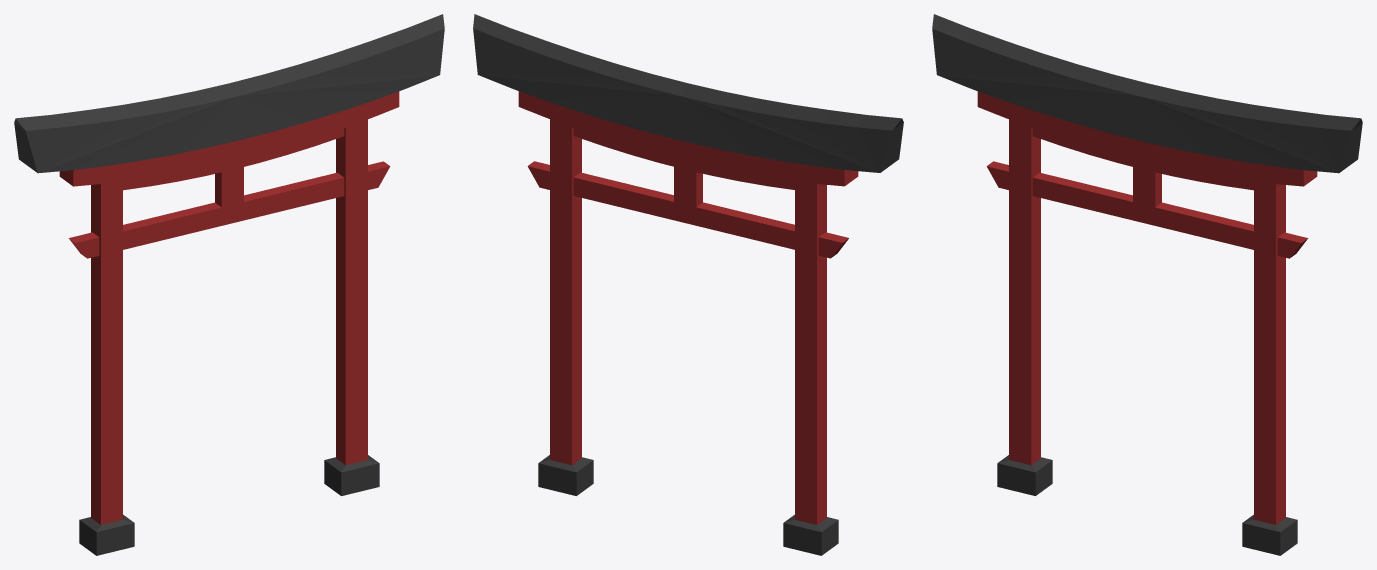
The model's file is Asian_Prop_Torii_Gate_01.FBX.
3 views of the same model, side by side, from view 1: azimuth 30°, elevation 25°; view 2: azimuth 150°, elevation 25°; view 3: azimuth 330°, elevation 25° (orthographic).
Visible parts, largest first — view 1: Asian_Prop_Torii_Gate_01; view 2: Asian_Prop_Torii_Gate_01; view 3: Asian_Prop_Torii_Gate_01.
Boxes of the visible parts, x1,y1,x2,y2 form: Asian_Prop_Torii_Gate_01: (14,14,444,555); Asian_Prop_Torii_Gate_01: (473,14,903,555); Asian_Prop_Torii_Gate_01: (932,14,1362,555).
Bounding box in the file's own units: 9005 × 9036 × 689.
